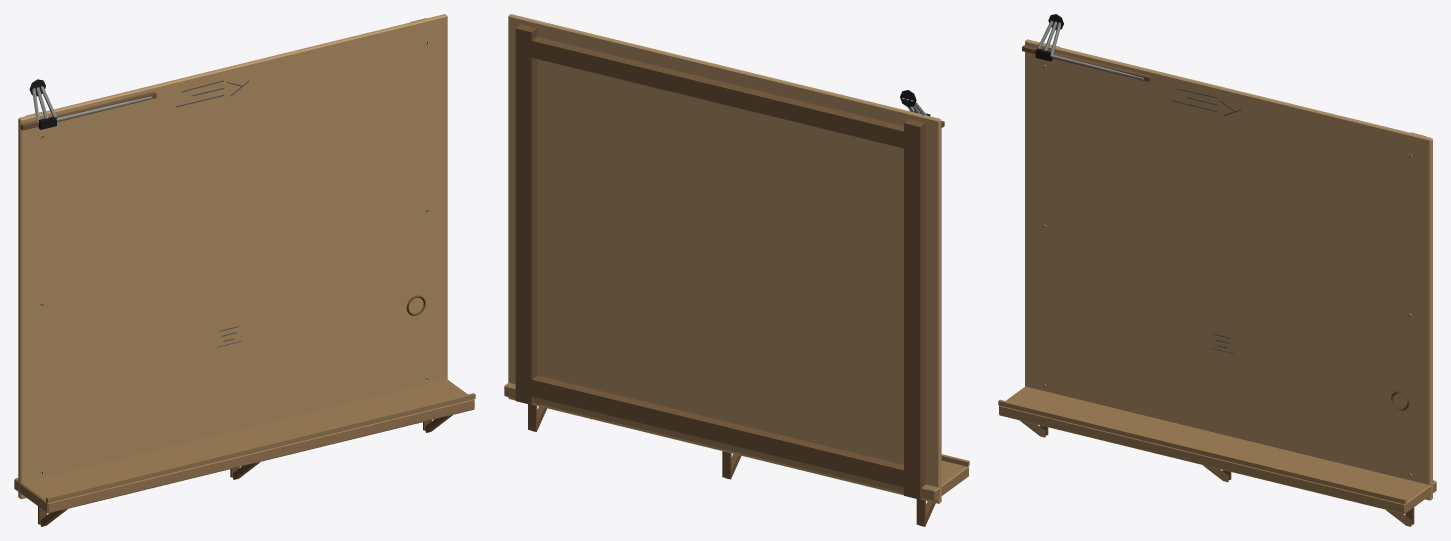
Rendered from room.switchboard.glb.
3 views of the same model, side by side, from view 1: azimuth 30°, elevation 25°; view 2: azimuth 150°, elevation 25°; view 3: azimuth 330°, elevation 25° (orthographic). The views are drawn at different scales.
Parts seen in each view (by area): view 1: ply, shelf, shelf-lip, lacing-bar; view 2: ply, batten-h1, batten-h-1, batten-v1, batten-v-1, shelf; view 3: ply, shelf, shelf-lip, lacing-bar.
Part boxes in pixels (bbox=[...]): ply: bbox=[18, 14, 447, 499]; shelf: bbox=[14, 379, 474, 513]; shelf-lip: bbox=[46, 393, 475, 502]; lacing-bar: bbox=[20, 92, 156, 130]; ply: bbox=[508, 14, 941, 503]; batten-h1: bbox=[529, 36, 904, 148]; batten-h-1: bbox=[529, 375, 903, 487]; batten-v1: bbox=[515, 24, 537, 404]; batten-v-1: bbox=[904, 119, 925, 499]; shelf: bbox=[504, 383, 968, 501]; ply: bbox=[1025, 39, 1432, 500]; shelf: bbox=[999, 386, 1436, 514]; shelf-lip: bbox=[998, 399, 1406, 504]; lacing-bar: bbox=[1022, 45, 1151, 81].
Bounding box in the file's own units: 1.6 × 1.57 × 0.2357.
